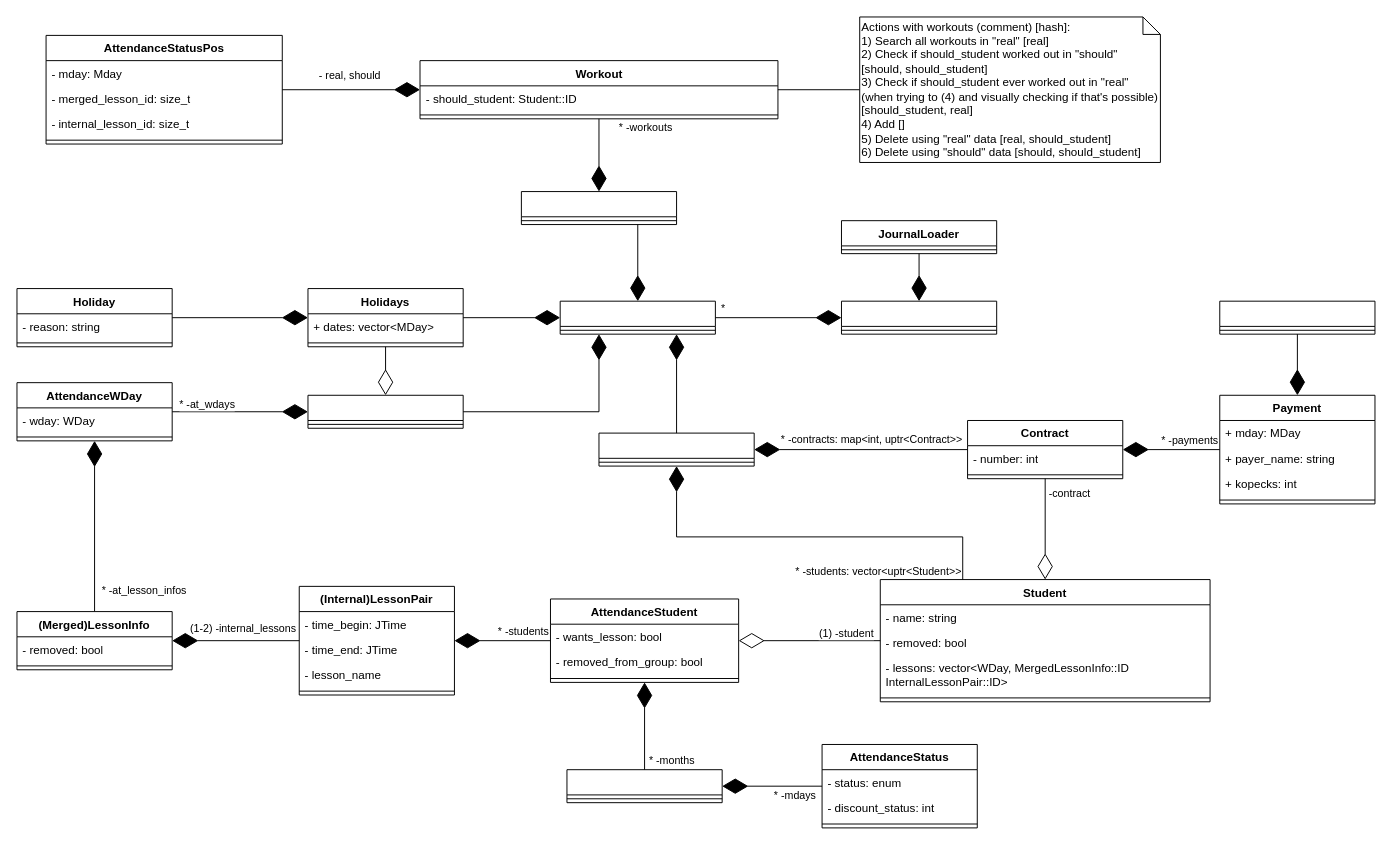
Some shapes in this 1392 by 845 pixel diagram are drawn without their labels. Each missing label, with the centre of its shape:
"AttendanceMonth" goes at [644,786].
"AttendanceWDays" goes at [385,411].
"JournalYear" goes at [637,317].
"Model" goes at [919,317].
"PaymentLoader" goes at [1297,317].
"Students" goes at [676,449].
"Workouts" goes at [598,208].
